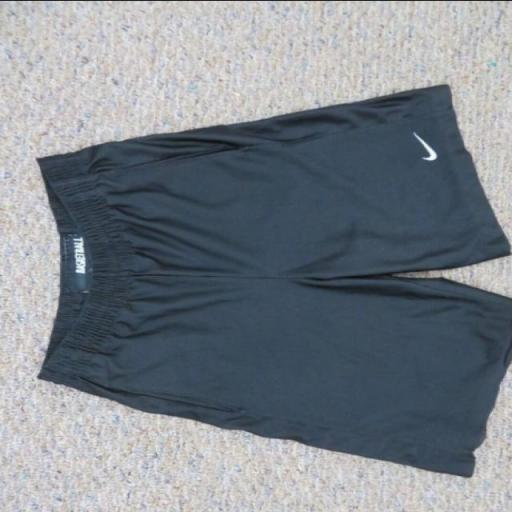Nike: (408, 126, 440, 168)
